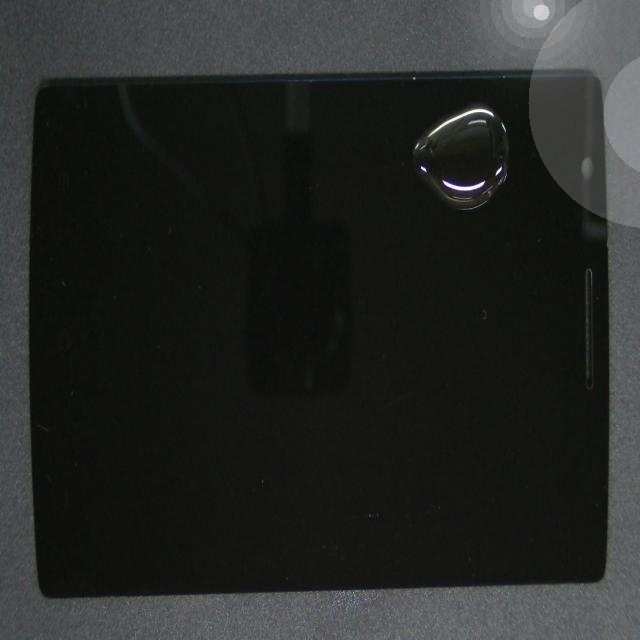oil: (280, 59, 640, 158)
